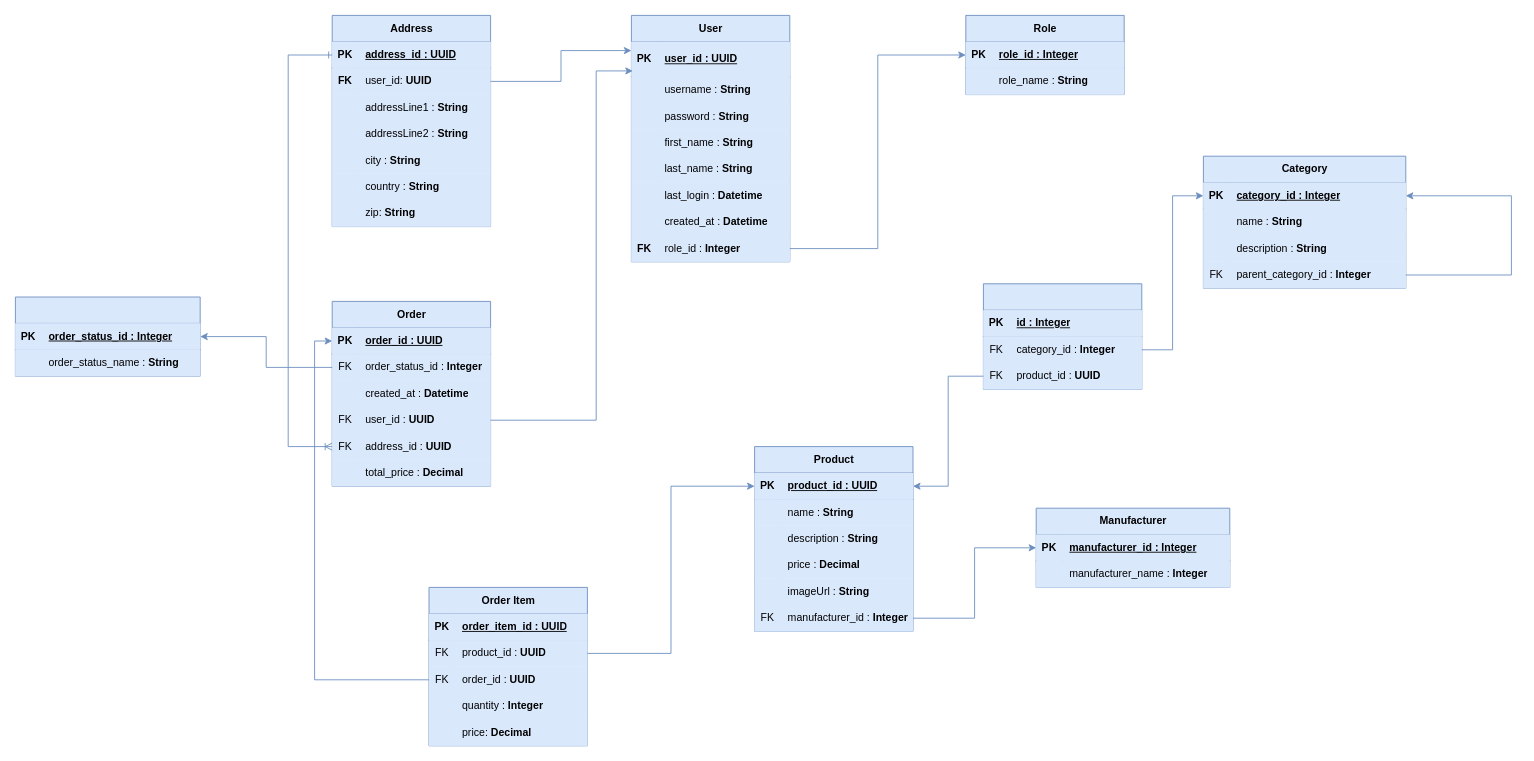
The diagram is 1534 pixels wide and 761 high, and some of its shapes have lost their labels. The box of each missing label's shape, as (x1, y1, x2, y2) in pixels:
Product/Category: (983, 283, 1142, 389)
Table: (15, 296, 200, 376)
